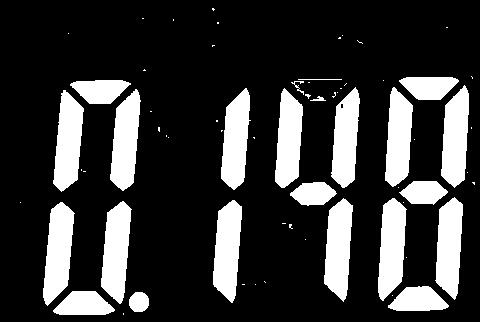0: (41, 76, 143, 317)
1: (212, 89, 253, 306)
4: (274, 81, 363, 304)
8: (377, 76, 471, 313)
dot: (127, 290, 150, 314)
